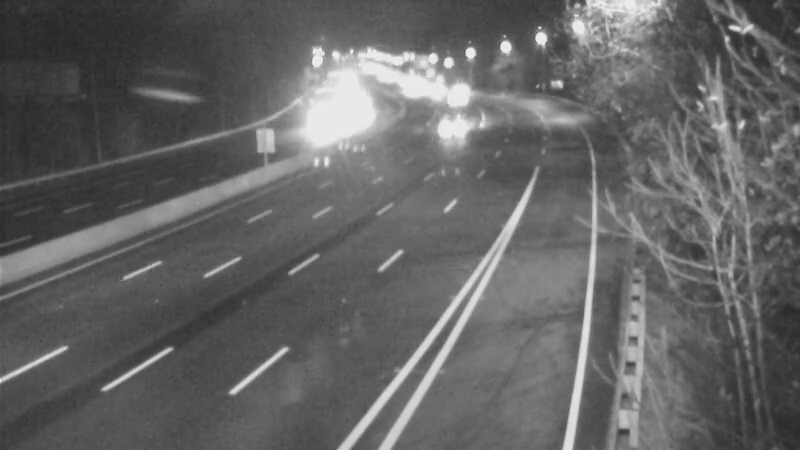vehicle: (431, 73, 481, 123), (423, 102, 473, 152)
